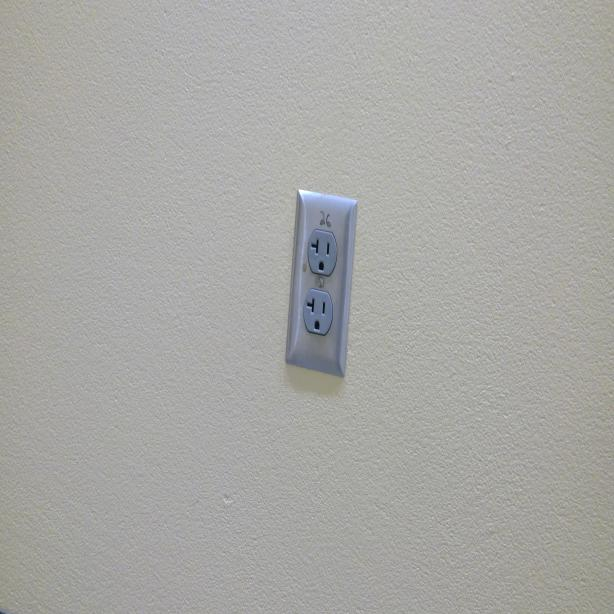typeb: (308, 229, 339, 280), (304, 294, 332, 338)
